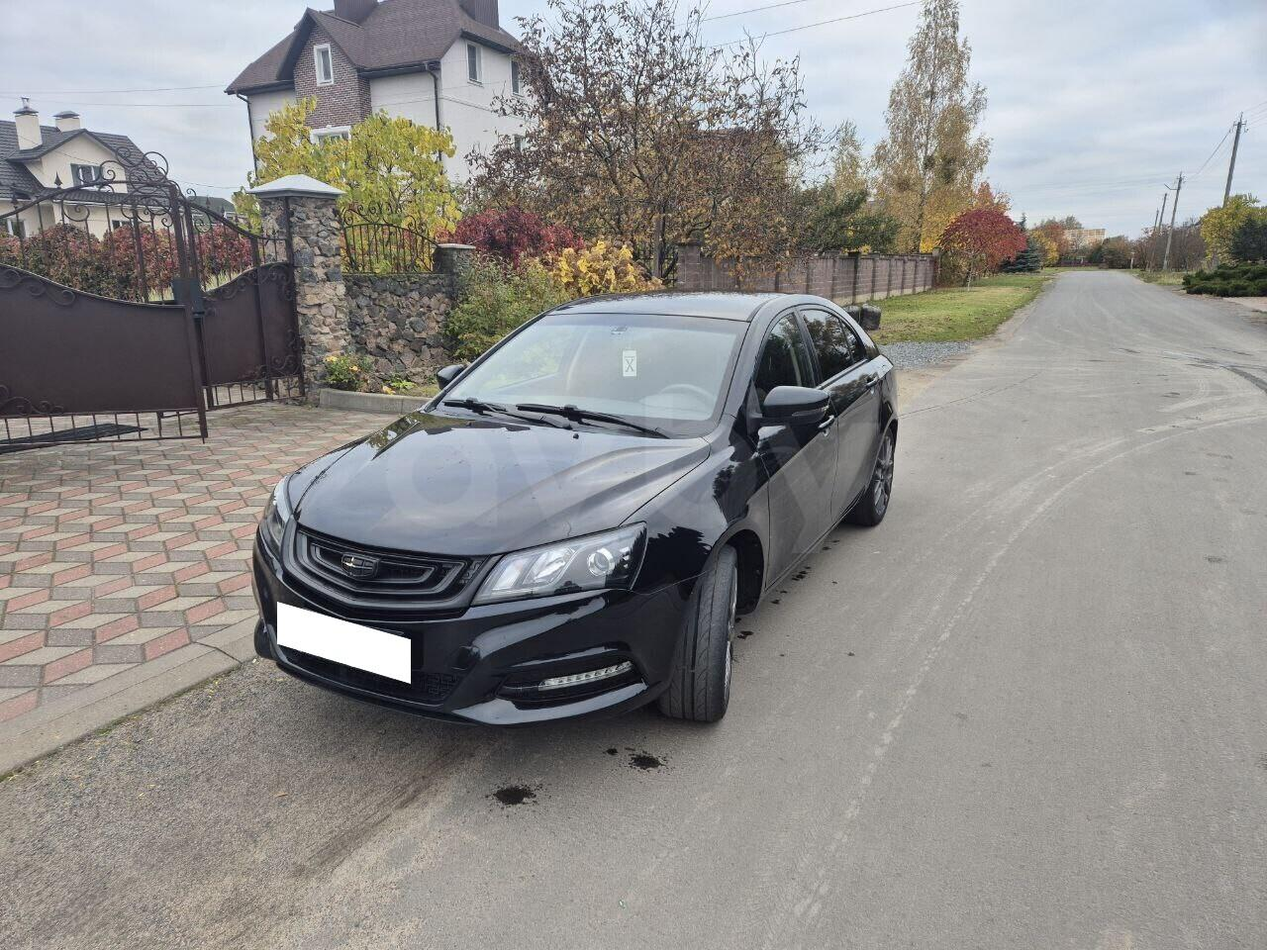Emgrand_2019-2021: (251, 292, 898, 722)
